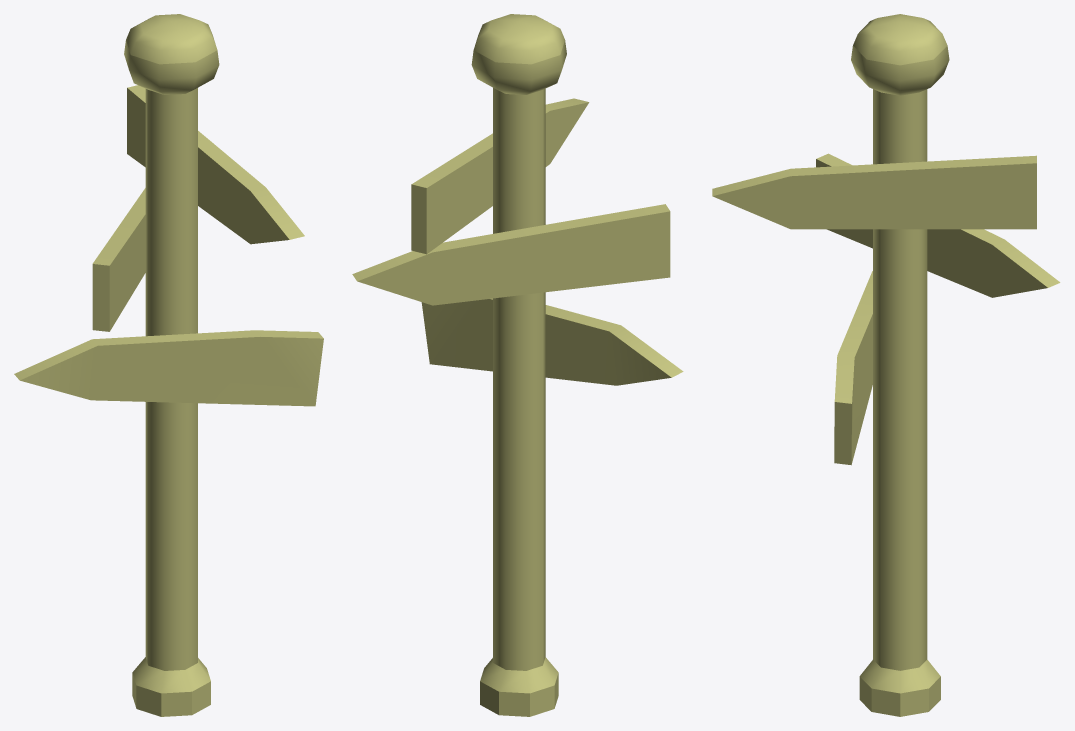
File: Pointer_Pro.fbx
3 renders of one model, left to right at view 1: azimuth 30°, elevation 25°; view 2: azimuth 150°, elevation 25°; view 3: azimuth 270°, elevation 25°, orthographic.
Visible parts, largest first — view 1: Pointer_Pro; view 2: Pointer_Pro; view 3: Pointer_Pro.
Part boxes in pixels (left/top/right/bottom): Pointer_Pro: left=14, top=14, right=323, bottom=716; Pointer_Pro: left=352, top=14, right=683, bottom=716; Pointer_Pro: left=712, top=14, right=1060, bottom=716.
Size of the model in its own units: 67.49 by 156 by 72.63.
